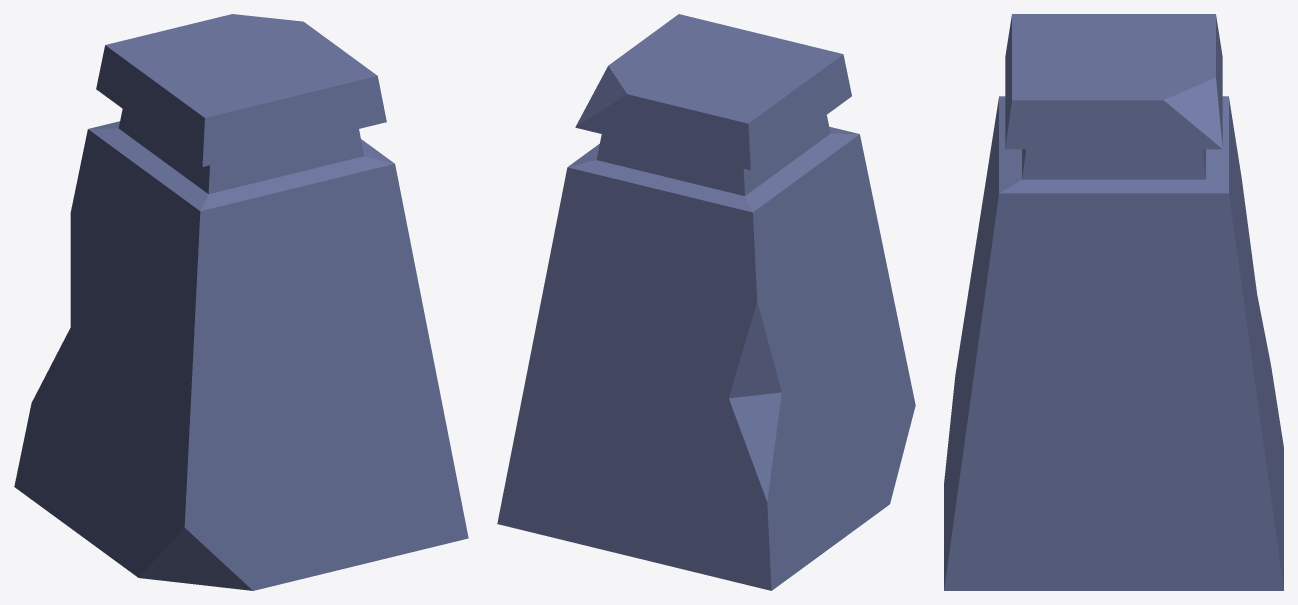
Rendered from column_small_2_2.fbx.
The picture shows the model from 3 angles, left to right: view 1: azimuth 30°, elevation 25°; view 2: azimuth 150°, elevation 25°; view 3: azimuth 270°, elevation 25°; orthographic projection. The views are drawn at different scales.
Visible parts, largest first — view 1: column_small_2_2; view 2: column_small_2_2; view 3: column_small_2_2.
Boxes of the visible parts, x1,y1,x2,y2 form: column_small_2_2: (14, 14, 468, 590); column_small_2_2: (497, 14, 915, 590); column_small_2_2: (944, 14, 1283, 590).
Bounding box in the file's own units: 2 × 3 × 2.
